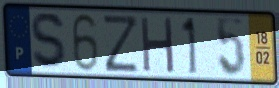1: (180, 16, 199, 77)
5: (212, 15, 248, 79)
6: (71, 11, 101, 74)
H: (139, 14, 177, 76)
S: (29, 10, 71, 73)
Z: (101, 13, 141, 75)
